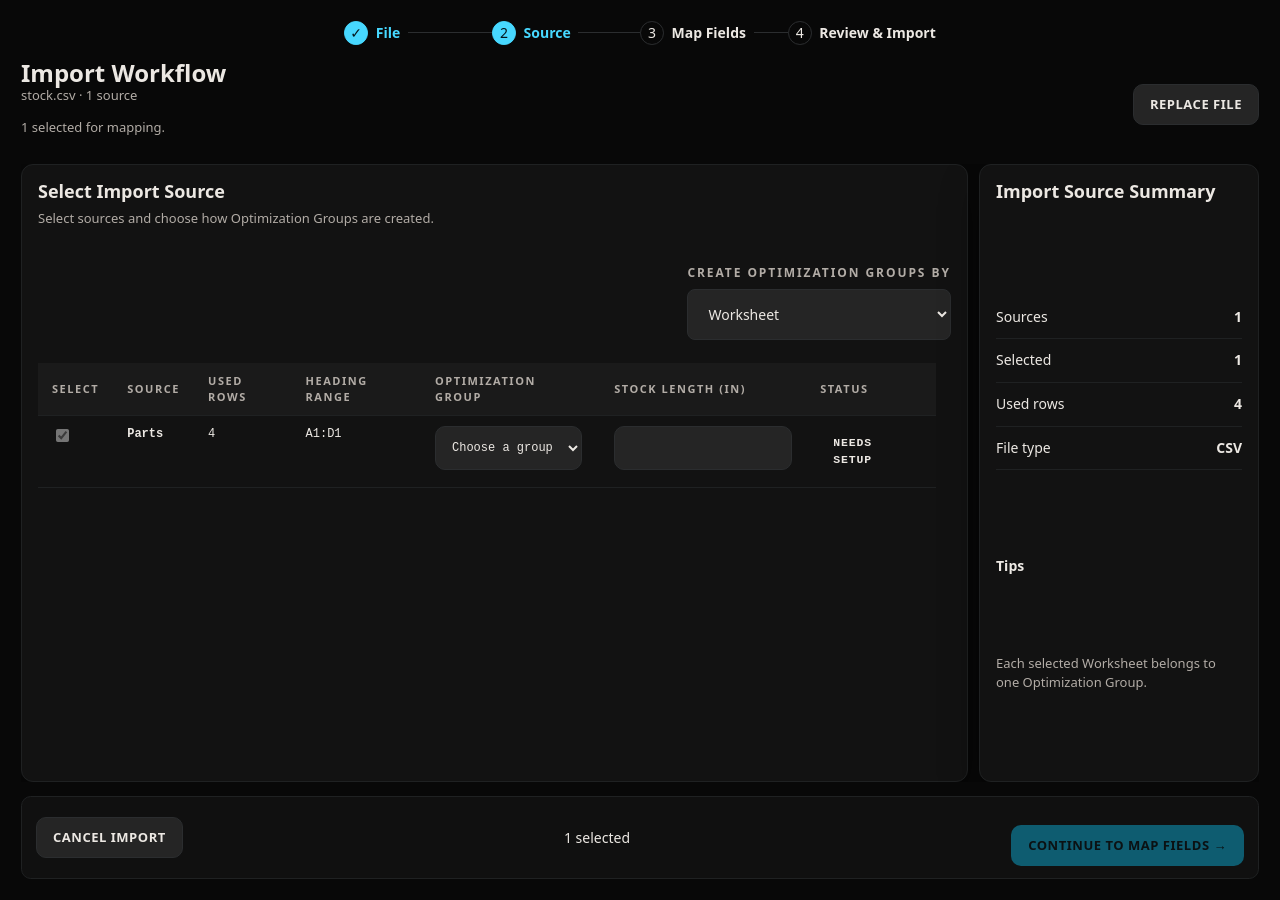
Test case: Stock-Length field grouping › merges normalized field values, keeps blanks last, and requires each Stock Length
Select "Mapped field" in the dropdown labelled "Create Optimization Groups by": x=819, y=315 [687, 289, 951, 340]
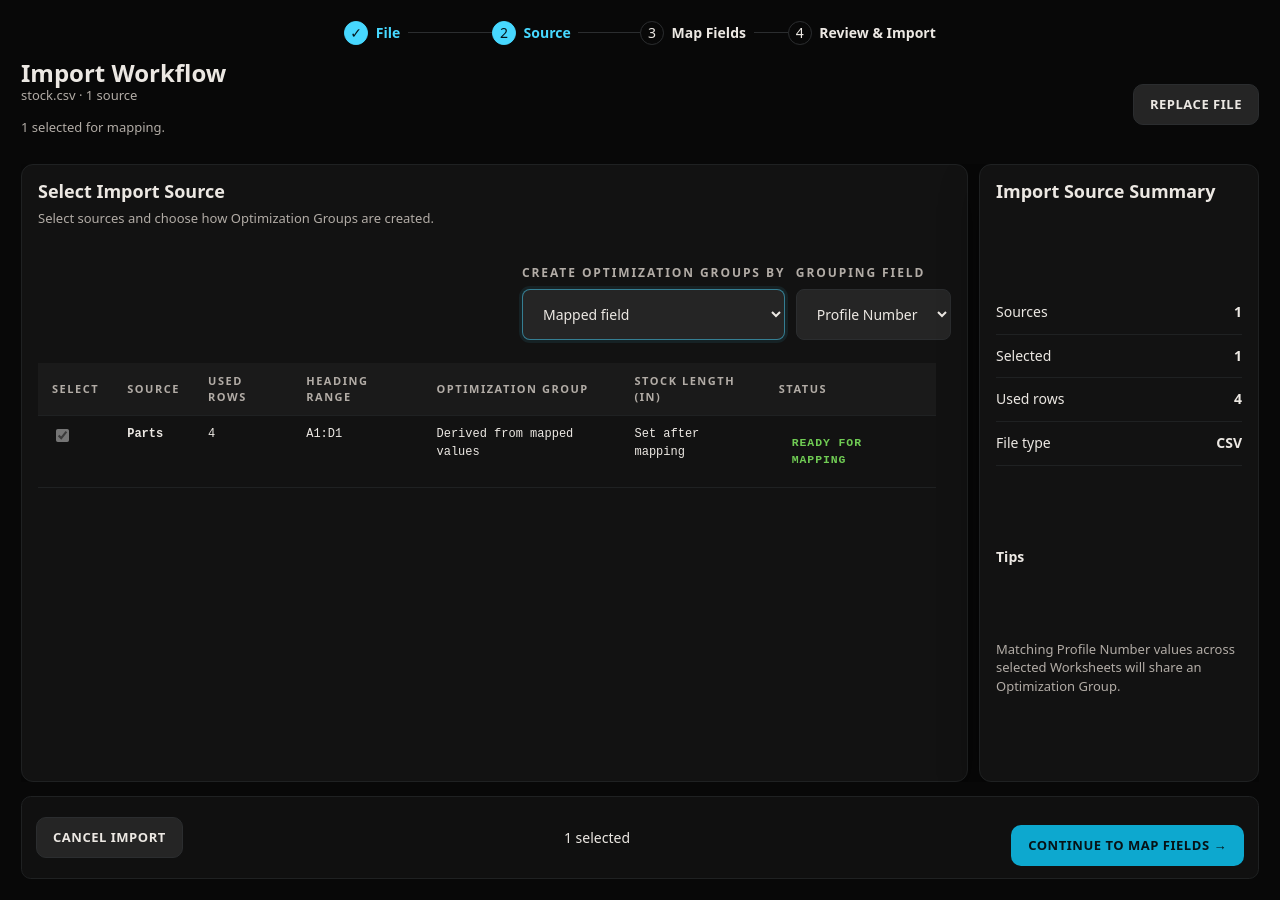
Select "Finish" in the dropdown labelled "Grouping Field": x=873, y=315 [796, 289, 951, 340]
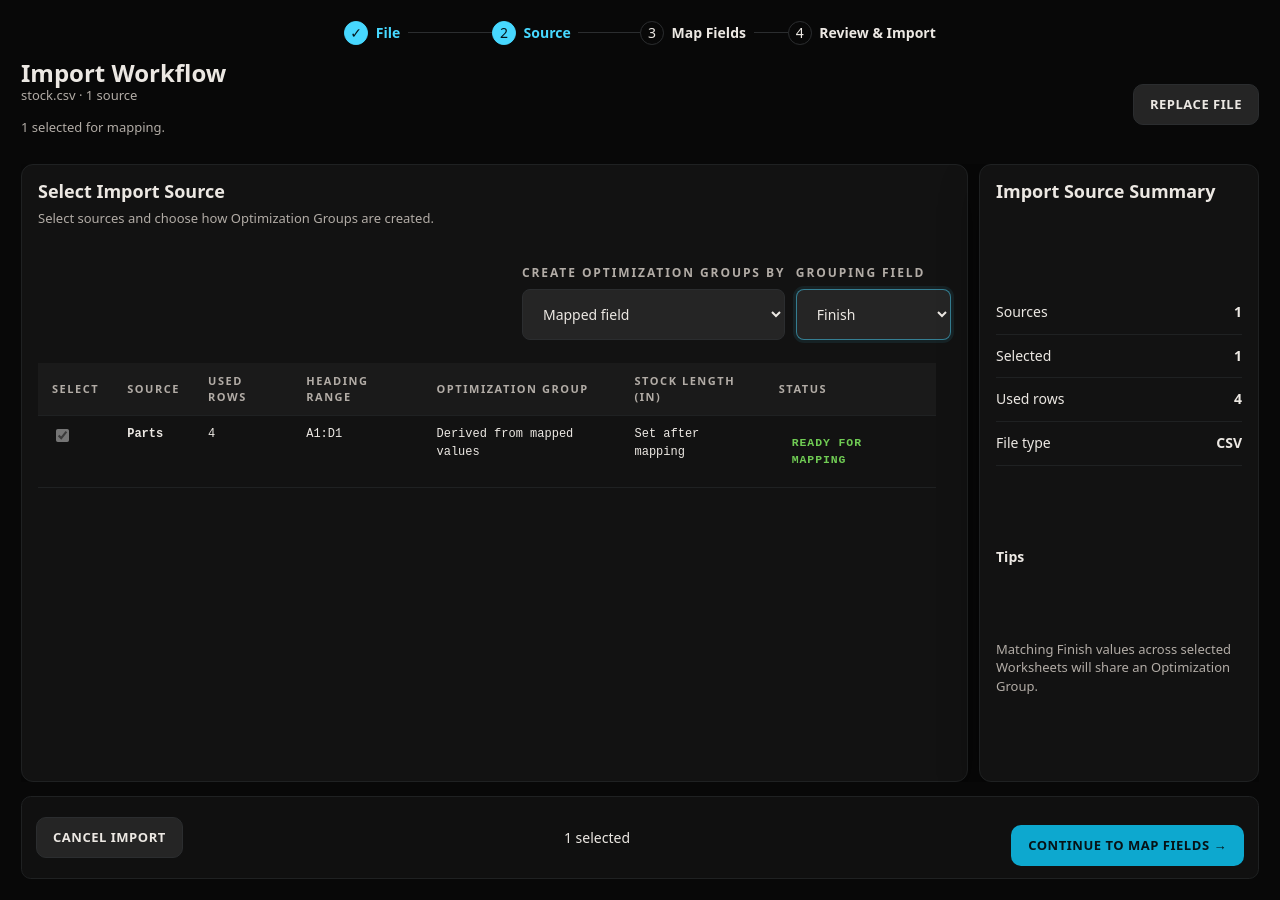
Click the button "Continue to Map Fields →": x=1128, y=846 [1011, 825, 1244, 866]
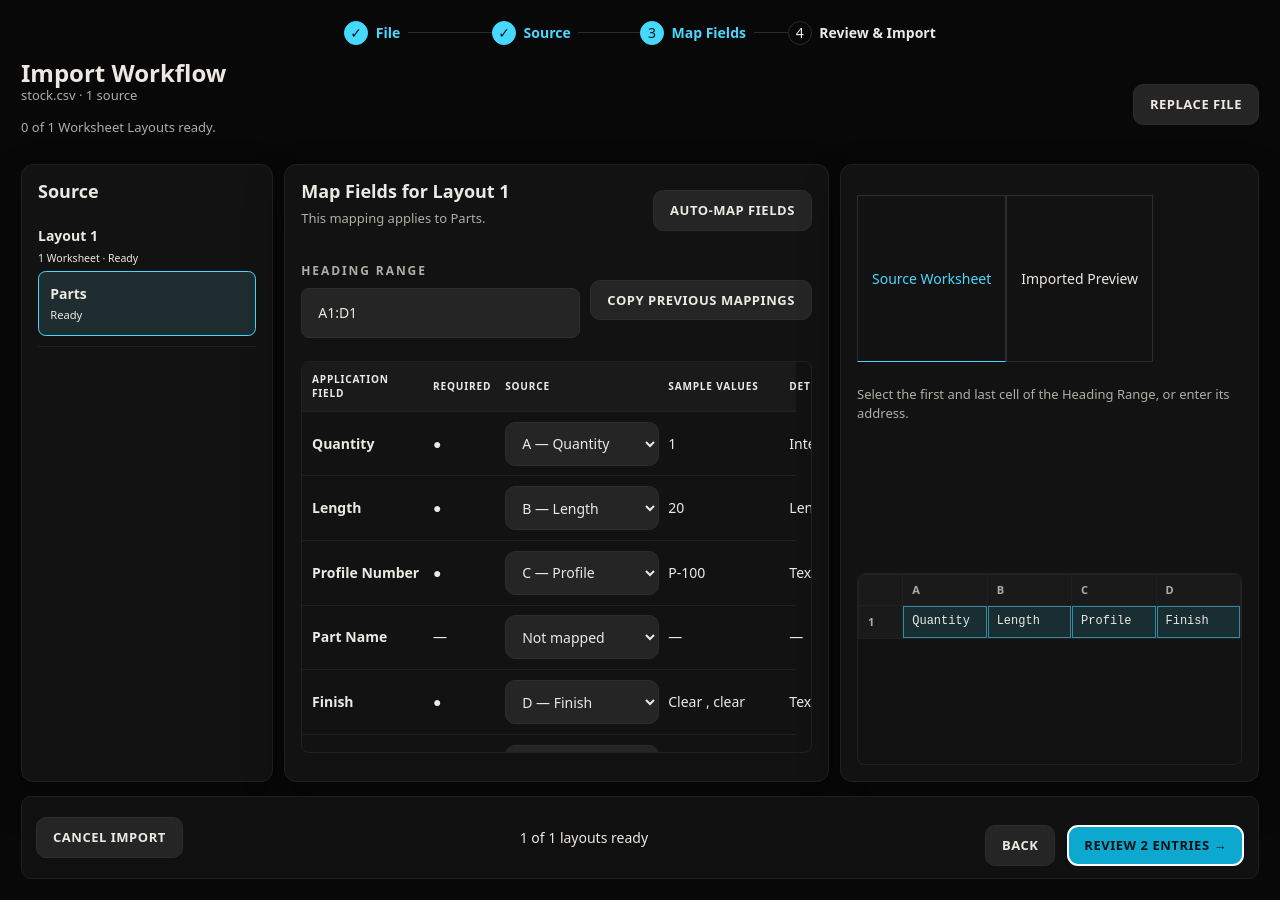
Click the button "Review 2 Entries →": x=1156, y=846 [1067, 825, 1244, 866]
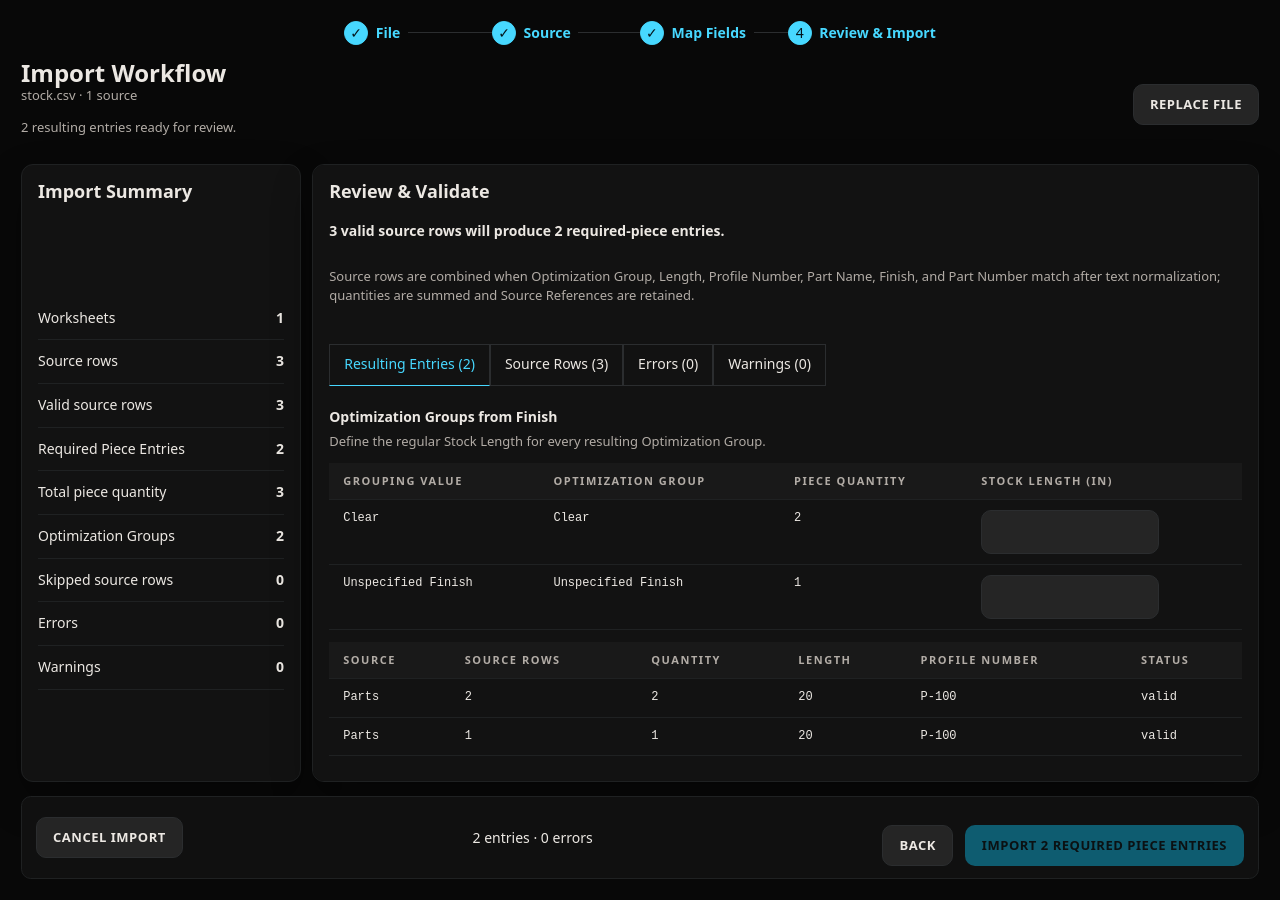
Now the heading "Optimization Groups from Finish" is shown, box [329, 407, 557, 426]
Now the text "Unspecified Finish" is shown 2 times, box [329, 565, 540, 630]; [540, 565, 780, 630]
Now the button "Import 2 Required Piece Entries" is disabled, box [965, 825, 1244, 866]
